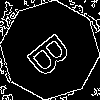B: (25, 25, 81, 80)
